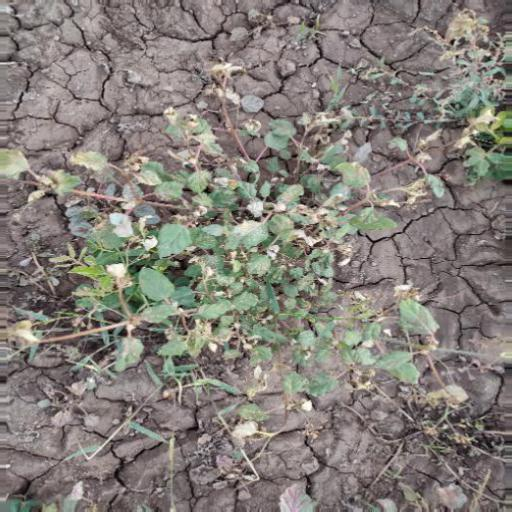weed: (21, 85, 435, 410)
